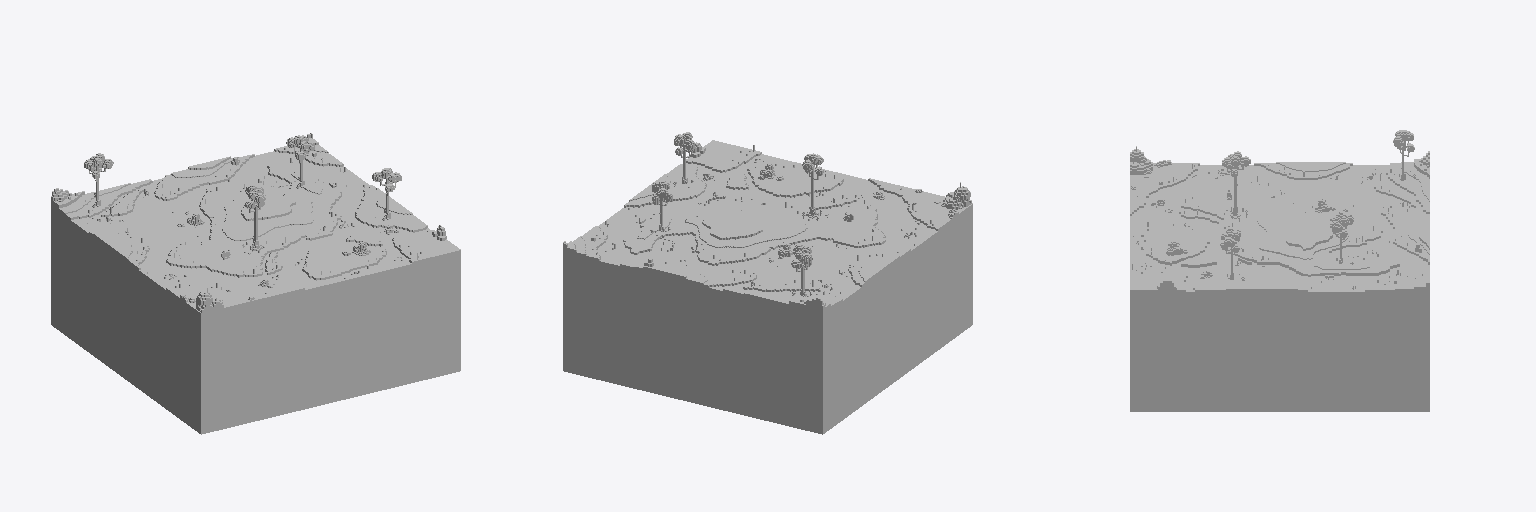
The model's file is swamp test01-3.obj.
3 views of the same model, side by side, from view 1: azimuth 30°, elevation 25°; view 2: azimuth 150°, elevation 25°; view 3: azimuth 270°, elevation 25° (orthographic).
Parts seen in each view (by area): view 1: object 1; view 2: object 1; view 3: object 1.
Boxes of the visible parts, x1,y1,x2,y2 form: object 1: [51, 133, 460, 434]; object 1: [563, 132, 972, 434]; object 1: [1130, 130, 1429, 411].
Size of the model in its own units: 25.6 by 17.3 by 25.6.